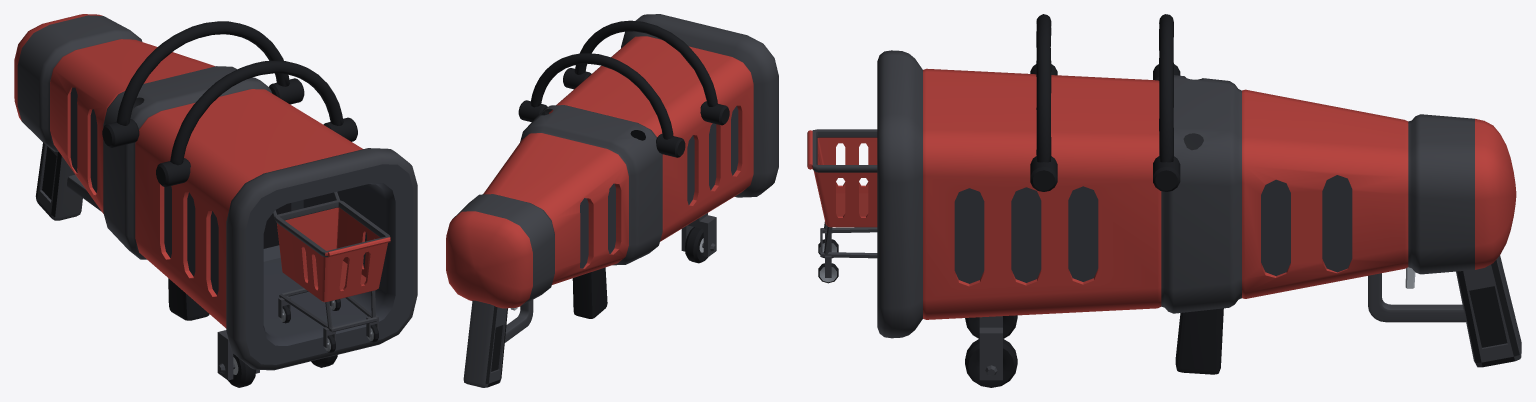
File: w_cart@cart_basket.glb
The picture shows the model from 3 angles, left to right: view 1: azimuth 30°, elevation 25°; view 2: azimuth 150°, elevation 25°; view 3: azimuth 270°, elevation 25°; orthographic projection. The views are drawn at different scales.
Visible parts, largest first — view 1: body_wzA__body__pb23b36, body_wzB__frame__p3a3c42, bore_wzN__dark__p353840, basket_wzN__black__p16171b, load_wzN__body__pb23b36, body_wzN__dark__p353840, load_wzN__frame__p3a3c42, grip_wzB__frame__p3a3c42, grip_wzN__black__p16171b, fore_wzB__black__p16171b, castor_wzB__frame__p3a3c42, castor_wzN__black__p16171b (+3 smaller); view 2: body_wzA__body__pb23b36, body_wzB__frame__p3a3c42, basket_wzN__black__p16171b, grip_wzB__frame__p3a3c42, body_wzN__dark__p353840, fore_wzB__black__p16171b, castor_wzB__frame__p3a3c42, grip_wzN__black__p16171b, castor_wzN__black__p16171b; view 3: body_wzA__body__pb23b36, body_wzB__frame__p3a3c42, body_wzN__dark__p353840, basket_wzN__black__p16171b, grip_wzB__frame__p3a3c42, load_wzN__body__pb23b36, grip_wzN__black__p16171b, fore_wzB__black__p16171b, load_wzN__frame__p3a3c42, castor_wzN__black__p16171b, castor_wzB__frame__p3a3c42.
Boxes of the visible parts, x1,y1,x2,y2 form: body_wzA__body__pb23b36: (14,14,362,328); body_wzB__frame__p3a3c42: (17,15,417,370); bore_wzN__dark__p353840: (246,164,413,364); basket_wzN__black__p16171b: (102,21,357,187); load_wzN__body__pb23b36: (277,207,387,302); body_wzN__dark__p353840: (70,87,218,295); load_wzN__frame__p3a3c42: (272,192,390,347); grip_wzB__frame__p3a3c42: (36,144,101,220); grip_wzN__black__p16171b: (36,142,61,218); fore_wzB__black__p16171b: (168,278,209,320); castor_wzB__frame__p3a3c42: (217,330,259,380); castor_wzN__black__p16171b: (228,354,337,387); body_wzA__body__pb23b36: (446,36,753,308); body_wzB__frame__p3a3c42: (453,14,778,306); basket_wzN__black__p16171b: (518,20,729,157); grip_wzB__frame__p3a3c42: (463,300,533,387); body_wzN__dark__p353840: (580,106,738,268); fore_wzB__black__p16171b: (572,267,607,318); castor_wzB__frame__p3a3c42: (681,213,716,256); grip_wzN__black__p16171b: (485,306,507,387); castor_wzN__black__p16171b: (685,227,707,263); body_wzA__body__pb23b36: (923,68,1516,319); body_wzB__frame__p3a3c42: (877,50,1474,338); body_wzN__dark__p353840: (954,175,1352,283); basket_wzN__black__p16171b: (1030,14,1180,191); grip_wzB__frame__p3a3c42: (1368,255,1521,367); load_wzN__body__pb23b36: (814,137,877,227); grip_wzN__black__p16171b: (1457,260,1519,367); fore_wzB__black__p16171b: (1175,308,1223,374); load_wzN__frame__p3a3c42: (812,129,877,277); castor_wzN__black__p16171b: (965,315,1017,387); castor_wzB__frame__p3a3c42: (979,316,1002,380).
Bounding box in the file's own units: 0.29 × 0.4344 × 0.8154.
